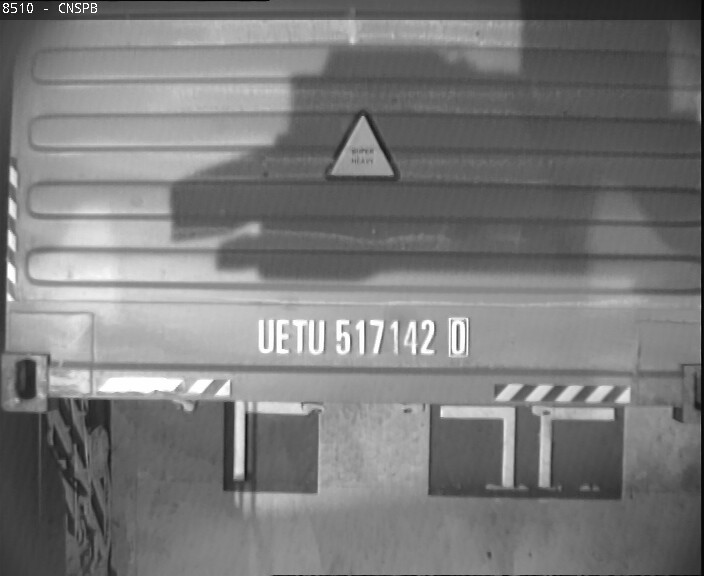groundmarker_1: (441, 405, 613, 488)
